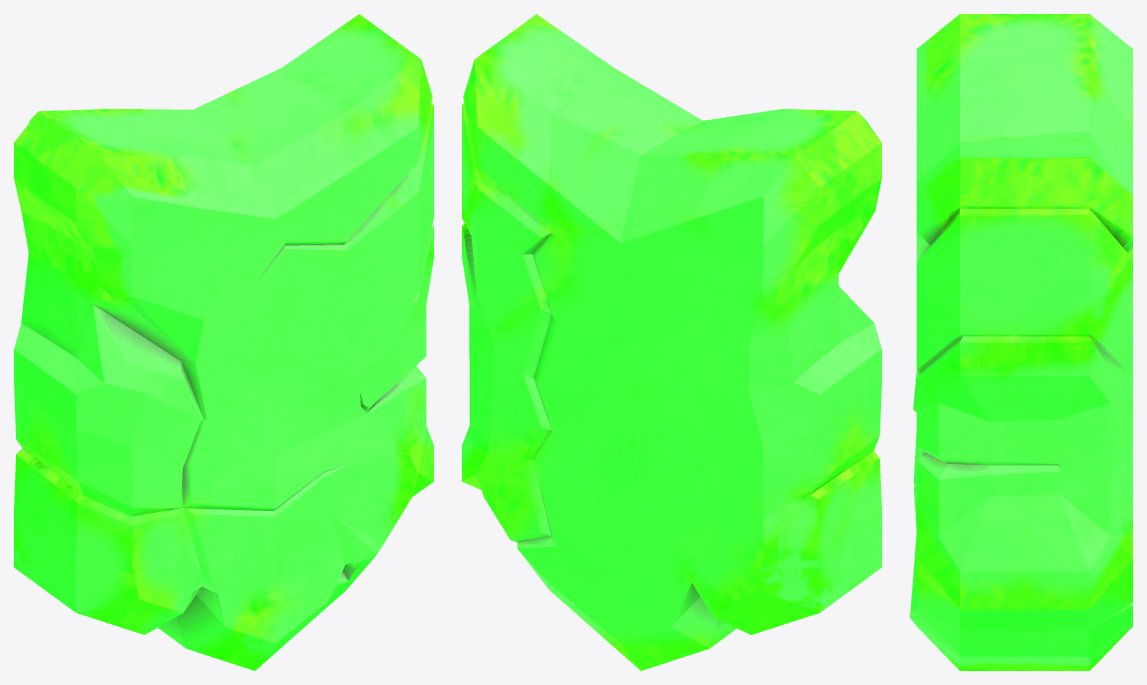
Rendered from Rune_1_Final (2).fbx.
3 renders of one model, left to right at view 1: azimuth 30°, elevation 25°; view 2: azimuth 150°, elevation 25°; view 3: azimuth 270°, elevation 25°, orthographic. The views are drawn at different scales.
Parts seen in each view (by area): view 1: Rune_1; view 2: Rune_1; view 3: Rune_1.
Part boxes in pixels (x1,y1,x2,y2): Rune_1: (14,14,433,670); Rune_1: (462,14,881,670); Rune_1: (910,14,1132,670).
Bounding box in the file's own units: 1 × 1.53 × 0.5155.
